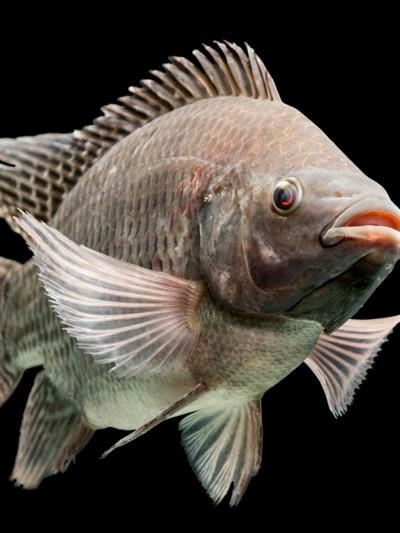Tilapia: (0, 38, 400, 516)
